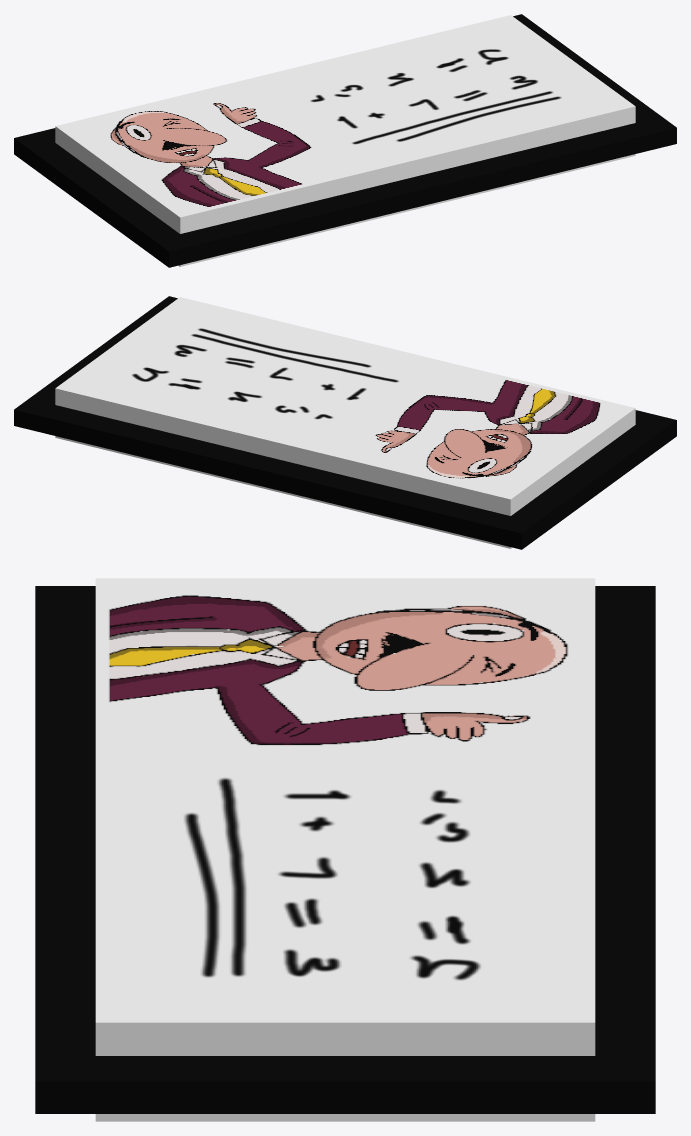
File: License.fbx
The picture shows the model from 3 angles, top to bottom: view 1: azimuth 30°, elevation 25°; view 2: azimuth 150°, elevation 25°; view 3: azimuth 270°, elevation 25°; orthographic projection. The views are drawn at different scales.
Visible parts, largest first — view 1: License; view 2: License; view 3: License.
Boxes of the visible parts, x1=… form: License: x1=14, y1=14, x2=676, y2=267; License: x1=14, y1=296, x2=676, y2=549; License: x1=35, y1=578, x2=655, y2=1121.
Size of the model in its own units: 114 by 10.65 by 60.5.
Materials: 1 (1 with a texture image).
